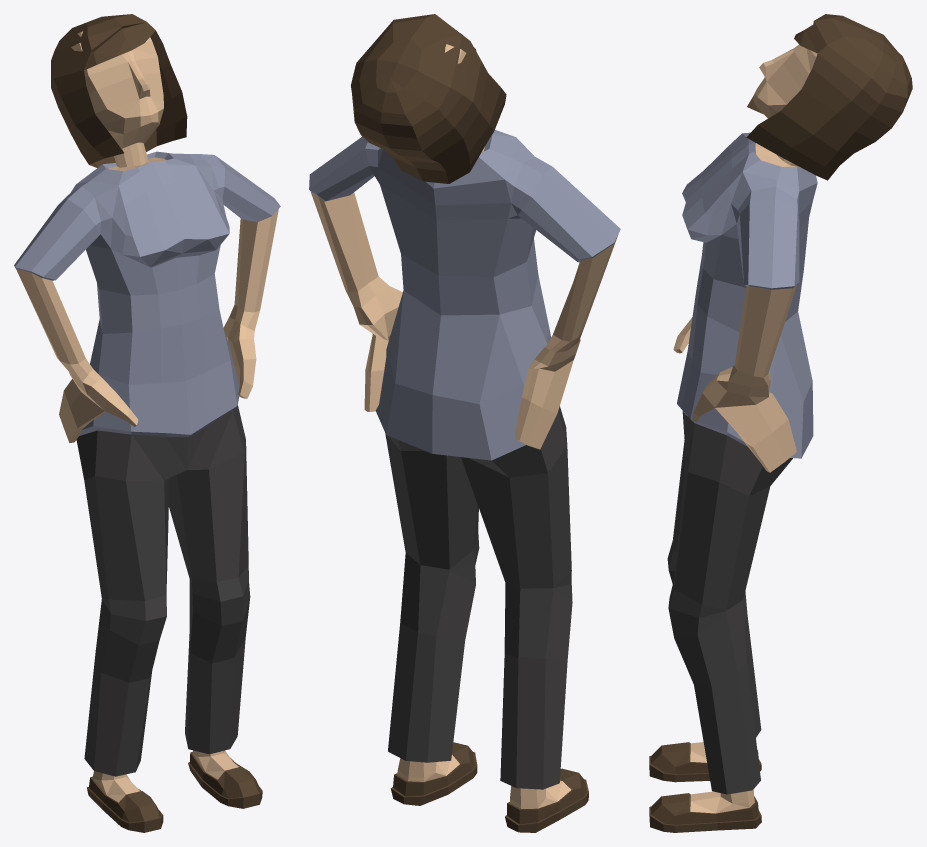
The model's file is Female_LookingUp.glb.
3 renders of one model, left to right at view 1: azimuth 30°, elevation 25°; view 2: azimuth 150°, elevation 25°; view 3: azimuth 270°, elevation 25°, orthographic. The views are drawn at different scales.
Visible parts, largest first — view 1: Female_LookingUp; view 2: Female_LookingUp; view 3: Female_LookingUp.
Boxes of the visible parts, left/top/right/bottom form: Female_LookingUp: left=14, top=14, right=280, bottom=832; Female_LookingUp: left=309, top=14, right=620, bottom=832; Female_LookingUp: left=649, top=14, right=912, bottom=832.
Size of the model in its own units: 0.6119 by 1.63 by 0.4993.
